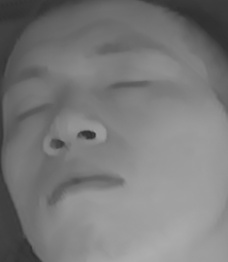blink: (107, 68, 157, 101), (13, 97, 55, 124)
mouth: (40, 162, 127, 212)
